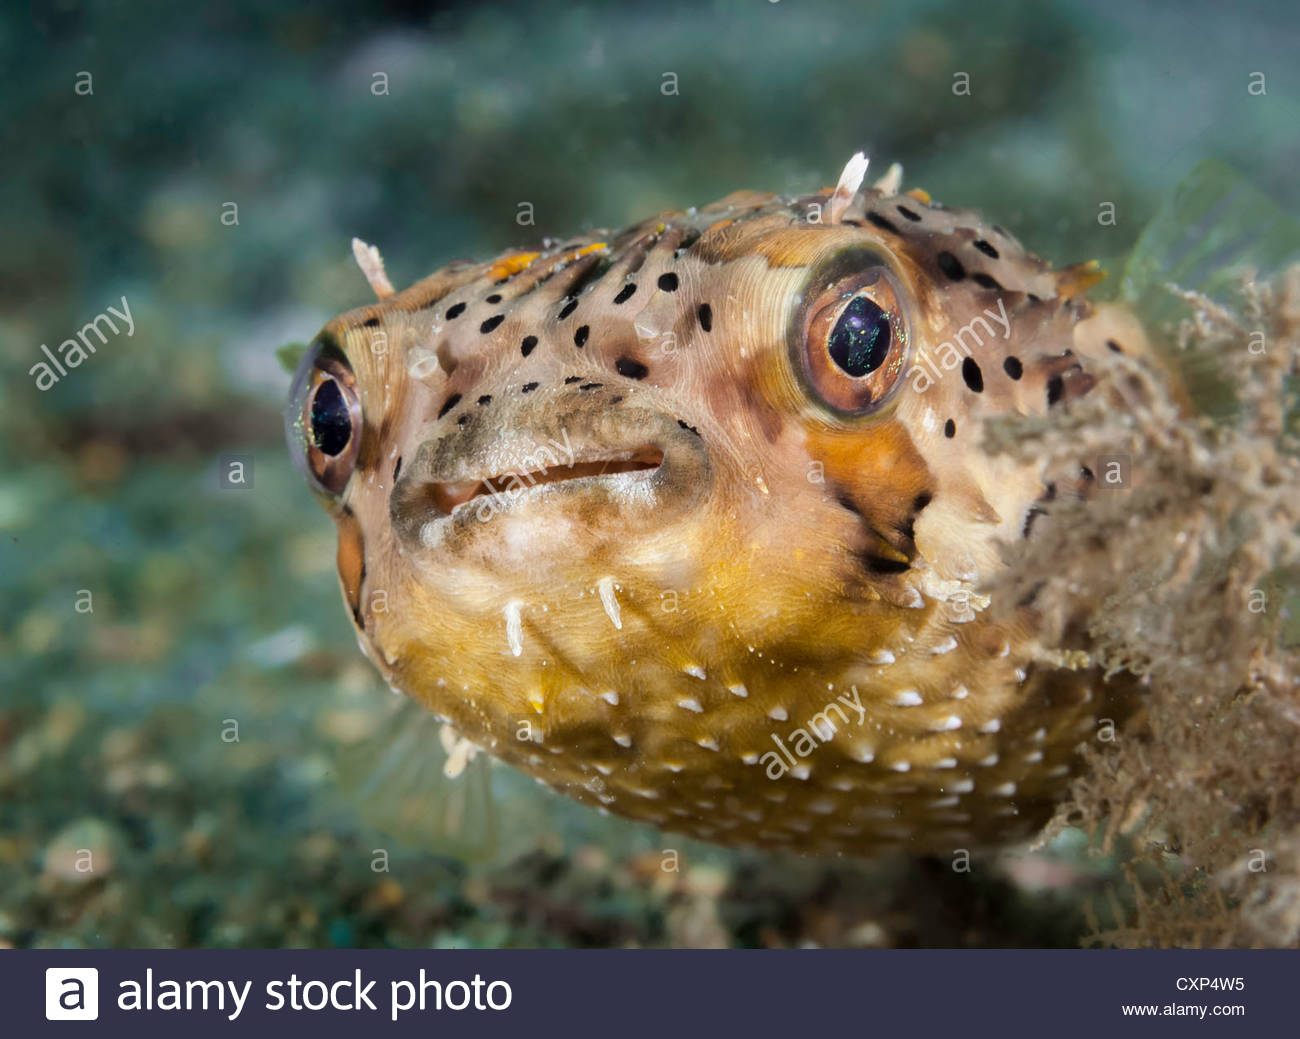Diodon_holocanthus: (257, 157, 1300, 932)
